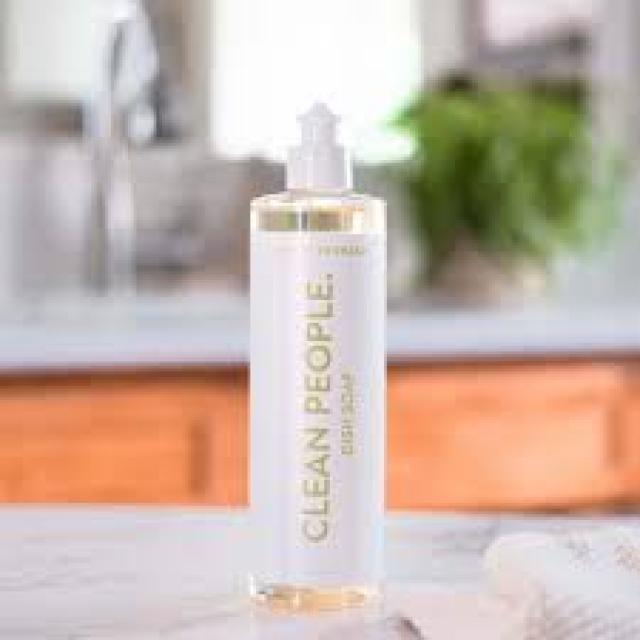liquid soap: (240, 96, 396, 629)
